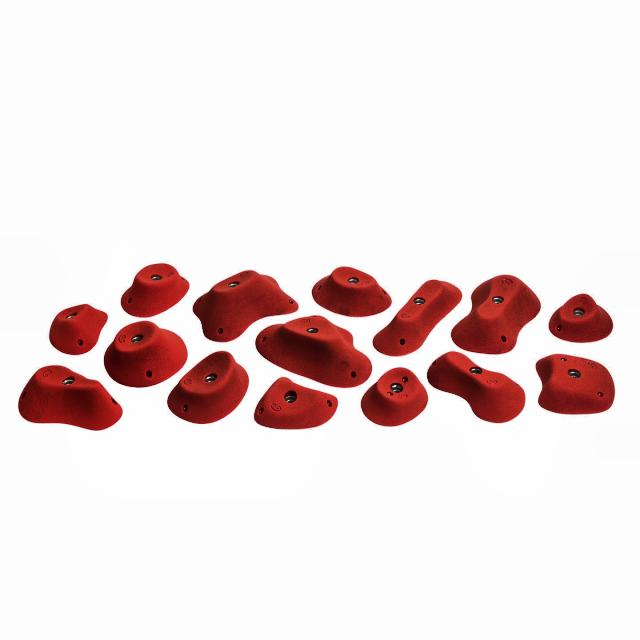Hold: (254, 318, 374, 387), (13, 363, 127, 435), (196, 261, 298, 337), (446, 270, 542, 349), (428, 349, 526, 426), (164, 348, 252, 423), (378, 274, 458, 354), (104, 320, 190, 390), (534, 352, 615, 417), (256, 374, 335, 430), (358, 366, 429, 424), (315, 262, 388, 318), (122, 260, 190, 318), (545, 288, 617, 342), (50, 302, 109, 355)
